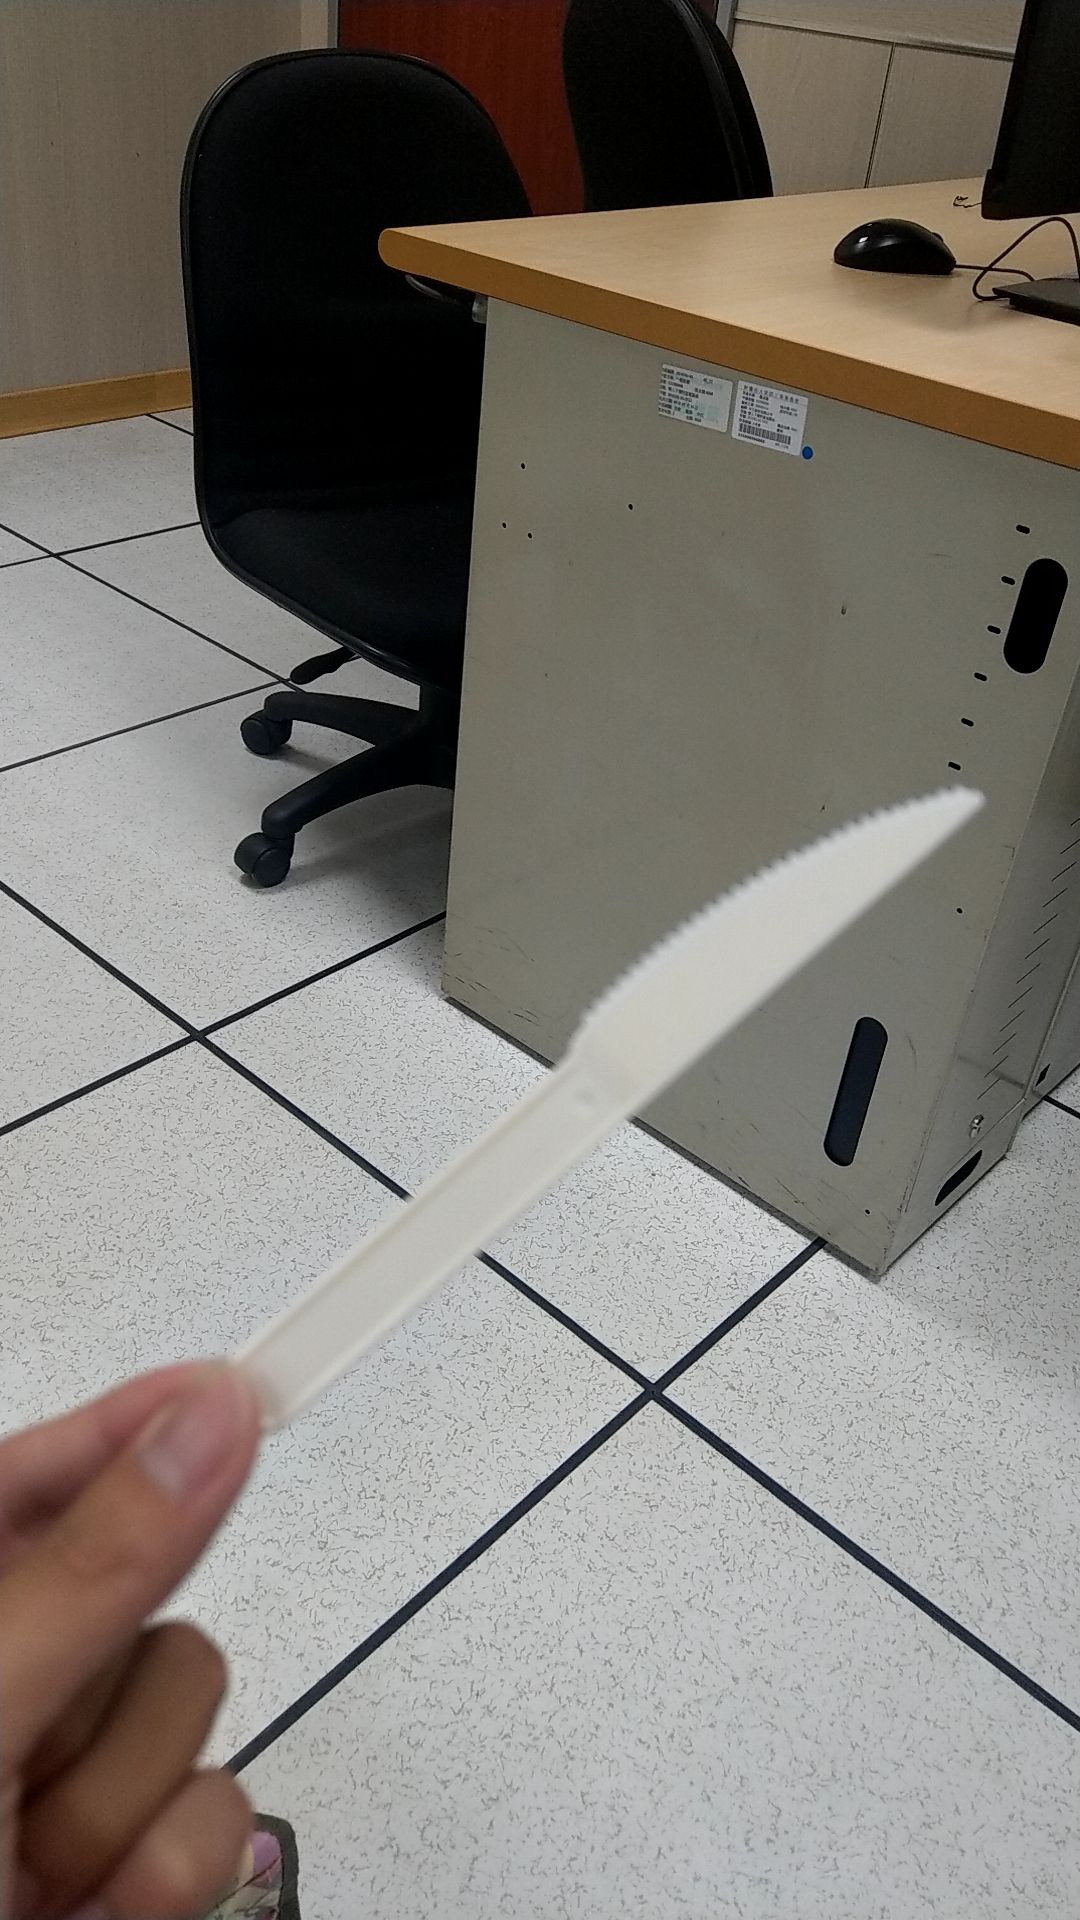knife: (272, 775, 957, 1407)
